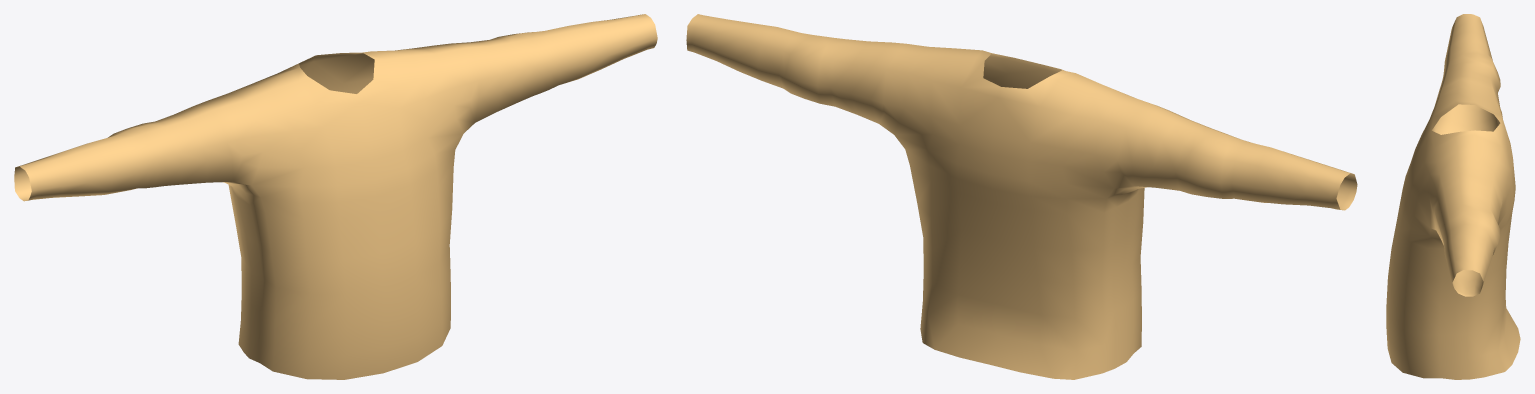
Rendered from Torso_01.fbx.
3 views of the same model, side by side, from view 1: azimuth 30°, elevation 25°; view 2: azimuth 150°, elevation 25°; view 3: azimuth 270°, elevation 25° (orthographic). The views are drawn at different scales.
Parts seen in each view (by area): view 1: Torso_01; view 2: Torso_01; view 3: Torso_01.
Part boxes in pixels (x1,y1,x2,y2): Torso_01: [14, 14, 657, 379]; Torso_01: [686, 14, 1357, 379]; Torso_01: [1386, 14, 1520, 379].
Bounding box in the file's own units: 118 × 49.5 × 26.1.
